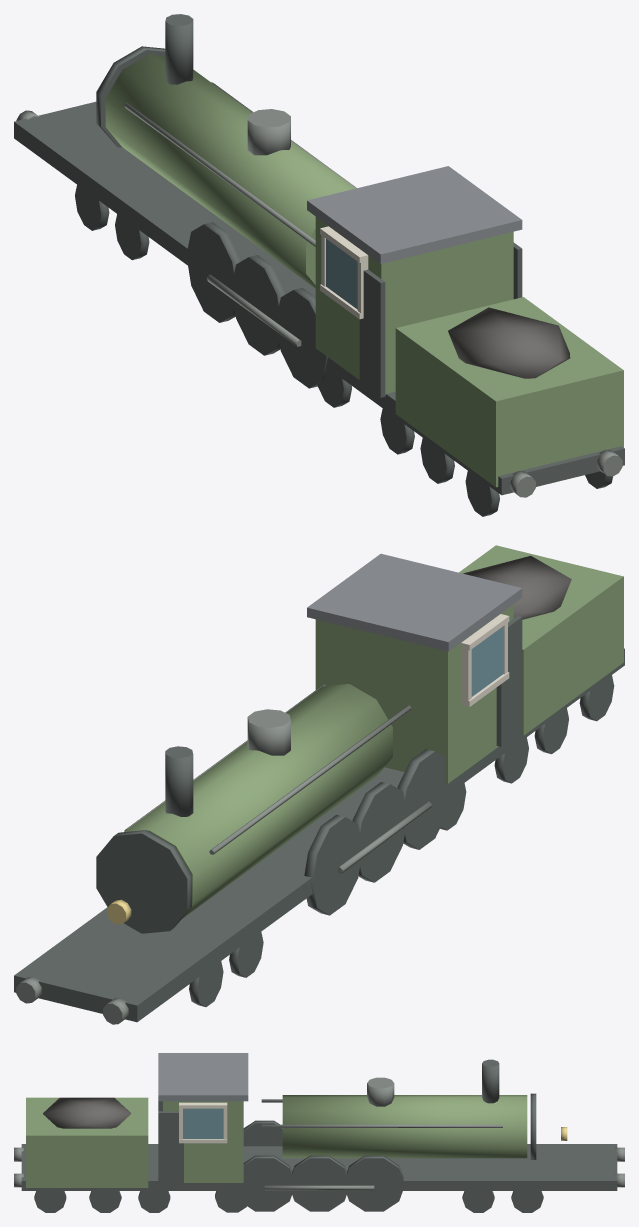
The model's file is tyne-a3_lod1.glb.
The picture shows the model from 3 angles, top to bottom: view 1: azimuth 30°, elevation 25°; view 2: azimuth 150°, elevation 25°; view 3: azimuth 270°, elevation 25°; orthographic projection. The views are drawn at different scales.
Parts seen in each view (by area): view 1: RF_Tender, RF_Boiler, RF_Chassis, RF_Cab, RF_CabRoof, RF_TenderCoal, RF_DrivingWheel.003, RF_DrivingWheel.002, RF_DrivingWheel.001, RF_CabDoor.001, RF_Chimney, RF_Dome (+10 smaller); view 2: RF_Boiler, RF_Chassis, RF_Cab, RF_Tender, RF_CabRoof, RF_SmokeboxFront, RF_DrivingWheel.003, RF_DrivingWheel.001, RF_DrivingWheel.002, RF_TenderCoal, RF_CabDoor.001, RF_Chimney (+9 smaller); view 3: RF_Boiler, RF_Chassis, RF_Tender, RF_CabRoof, RF_Cab, RF_DrivingWheel, RF_DrivingWheel.004, RF_DrivingWheel.005, RF_TenderCoal, RF_CabDoor, RF_Window, RF_SteamPipe (+13 smaller).
Boxes of the visible parts, bbox=[...] form: RF_Tender: bbox=[395, 297, 623, 487]; RF_Boiler: bbox=[105, 54, 355, 288]; RF_Chassis: bbox=[14, 101, 624, 495]; RF_Cab: bbox=[315, 217, 513, 395]; RF_CabRoof: bbox=[307, 166, 522, 263]; RF_TenderCoal: bbox=[448, 307, 570, 378]; RF_DrivingWheel.003: bbox=[186, 222, 241, 322]; RF_DrivingWheel.002: bbox=[234, 255, 286, 355]; RF_DrivingWheel.001: bbox=[276, 287, 327, 388]; RF_CabDoor.001: bbox=[359, 269, 385, 397]; RF_Chimney: bbox=[165, 14, 193, 84]; RF_Dome: bbox=[247, 109, 290, 155]; RF_Boiler: bbox=[124, 684, 392, 918]; RF_Chassis: bbox=[14, 648, 624, 1022]; RF_Cab: bbox=[315, 604, 513, 783]; RF_Tender: bbox=[459, 545, 623, 735]; RF_CabRoof: bbox=[307, 553, 522, 651]; RF_SmokeboxFront: bbox=[96, 830, 191, 933]; RF_DrivingWheel.003: bbox=[304, 814, 362, 915]; RF_DrivingWheel.001: bbox=[397, 749, 452, 849]; RF_DrivingWheel.002: bbox=[352, 782, 407, 882]; RF_TenderCoal: bbox=[463, 555, 571, 619]; RF_CabDoor.001: bbox=[496, 616, 522, 746]; RF_Chimney: bbox=[165, 746, 193, 816]; RF_Boiler: bbox=[282, 1095, 527, 1158]; RF_Chassis: bbox=[21, 1144, 617, 1190]; RF_Tender: bbox=[26, 1097, 148, 1187]; RF_CabRoof: bbox=[158, 1053, 248, 1101]; RF_Cab: bbox=[163, 1101, 243, 1182]; RF_DrivingWheel: bbox=[343, 1155, 404, 1211]; RF_DrivingWheel.004: bbox=[234, 1155, 295, 1211]; RF_DrivingWheel.005: bbox=[288, 1155, 350, 1211]; RF_TenderCoal: bbox=[43, 1097, 131, 1128]; RF_CabDoor: bbox=[158, 1111, 183, 1182]; RF_Window: bbox=[183, 1108, 223, 1138]; RF_SteamPipe: bbox=[261, 1124, 502, 1127].
Size of the model in its own units: 3.28 by 4.5 by 18.98.
